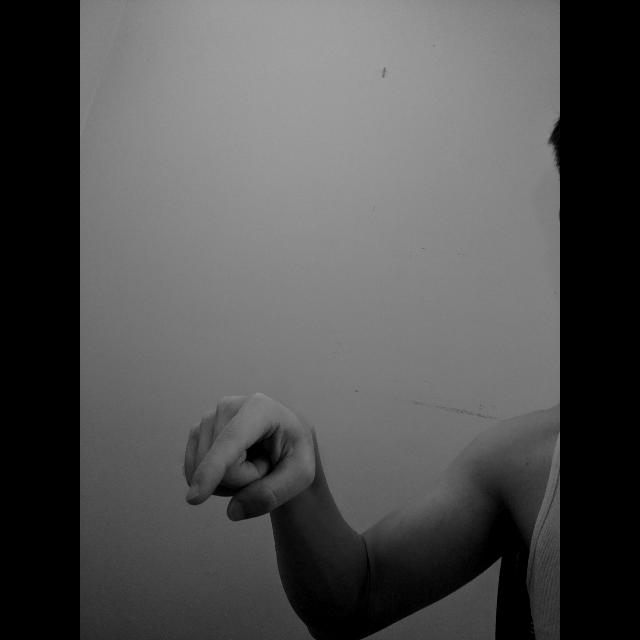Z: (178, 390, 320, 526)
